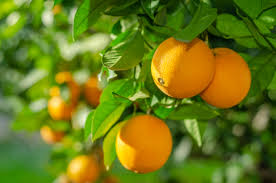orange: (149, 32, 215, 100), (115, 112, 174, 172), (198, 46, 251, 108)
